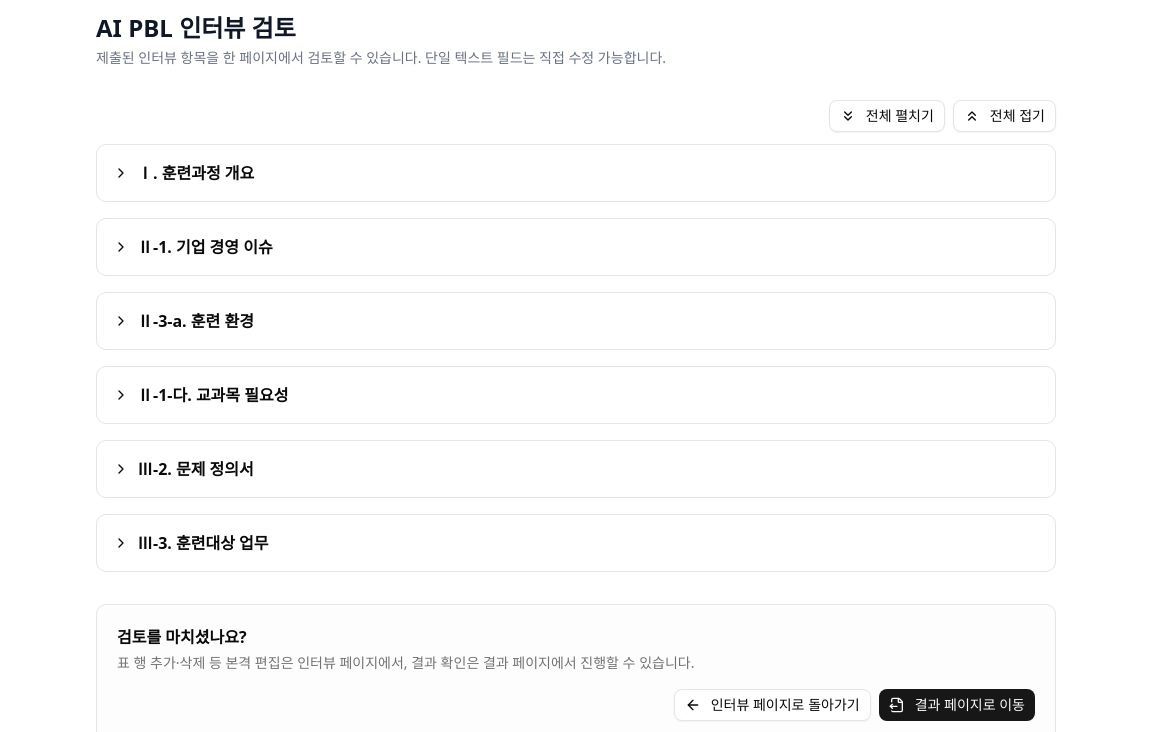
Scenario: InterviewReviewClient › PBL 트랙 › Ⅲ-2 문제 정의서 — 비어 있을 때 안내 문구 표시
This screenshot has width=1152, height=732.
Note: problemDefinitionSheet 가 전부 빈 문자열이면 안내 문구 표시
Click the button "Ⅲ-2. 문제 정의서". click: [195, 469]
box: [113, 457, 1039, 481]
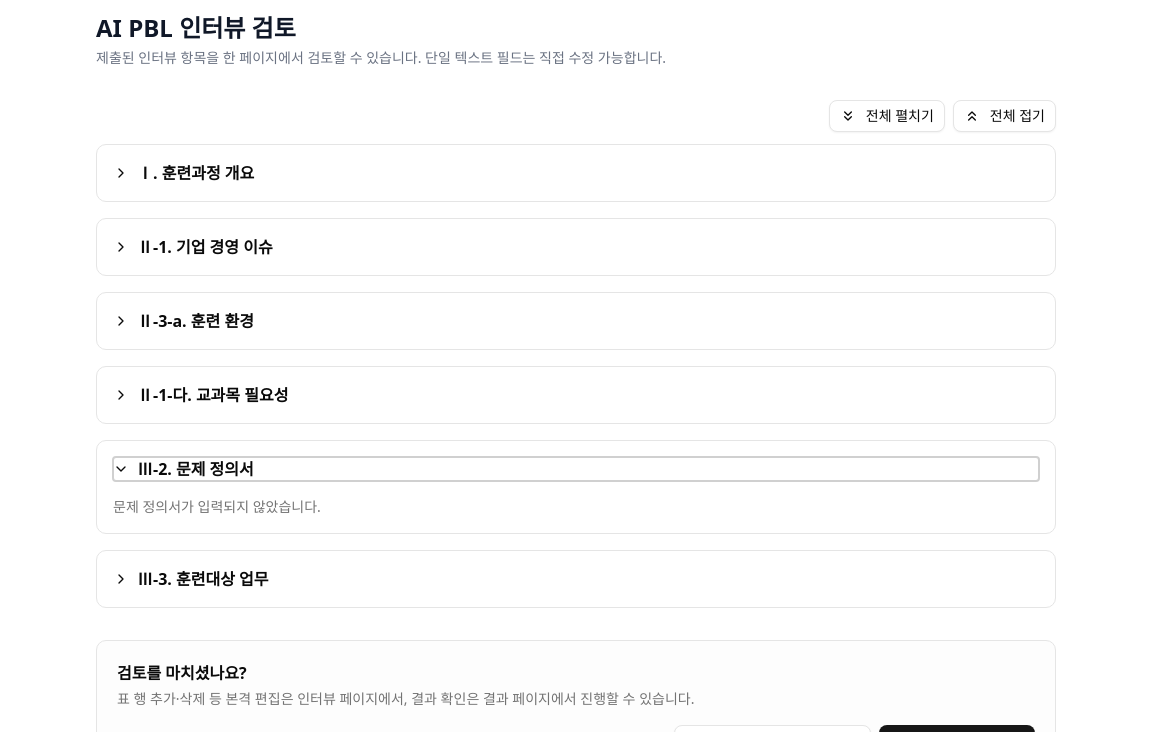
Check: the text "문제 정의서가 입력되지 않았습니다." is shown, box [113, 497, 321, 516]
